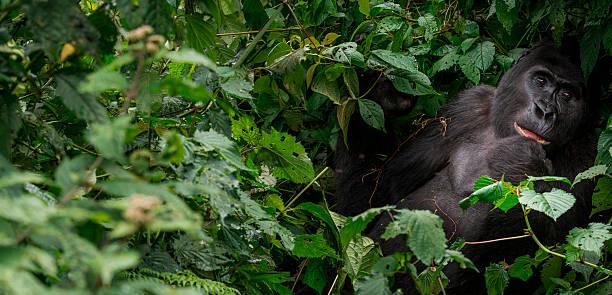goriile_montagne: (382, 30, 587, 240)
